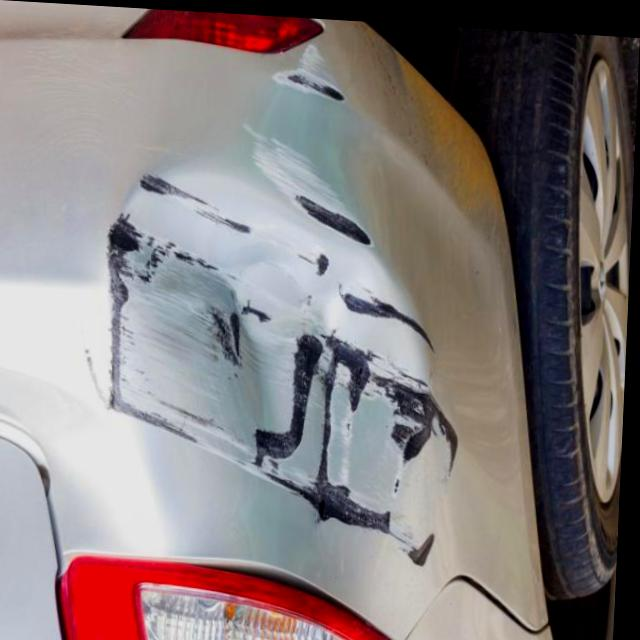Dent: (104, 126, 409, 514)
Scratch: (70, 156, 468, 570), (242, 124, 382, 254), (263, 35, 354, 112)
